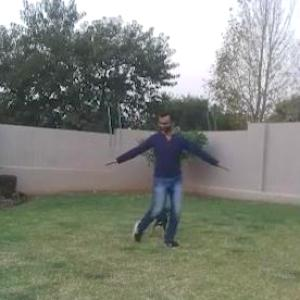land: (112, 120, 216, 241)
